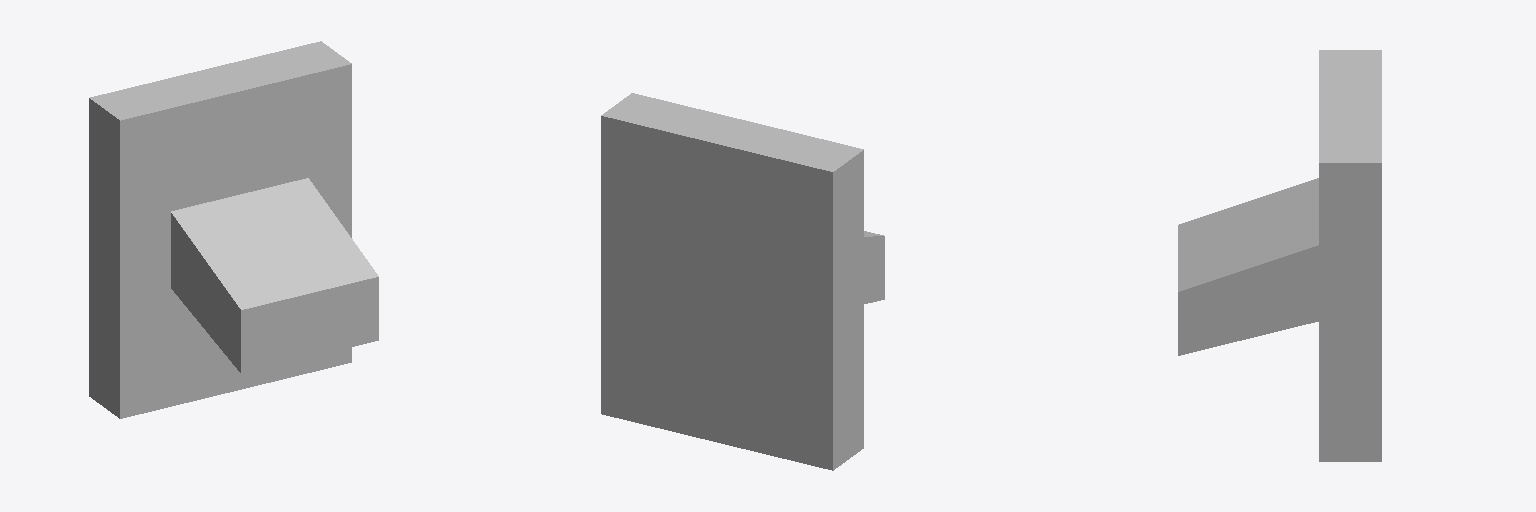
File: lightswitch.obj
3 views of the same model, side by side, from view 1: azimuth 30°, elevation 25°; view 2: azimuth 150°, elevation 25°; view 3: azimuth 270°, elevation 25° (orthographic).
Visible parts, largest first — view 1: pCube1; view 2: pCube1; view 3: pCube1.
Boxes of the visible parts, <box> form: pCube1: <box>89,41,378,418</box>; pCube1: <box>601,93,884,470</box>; pCube1: <box>1178,50,1381,461</box>.
Size of the model in its own units: 0.4834 by 0.5939 by 0.3673.